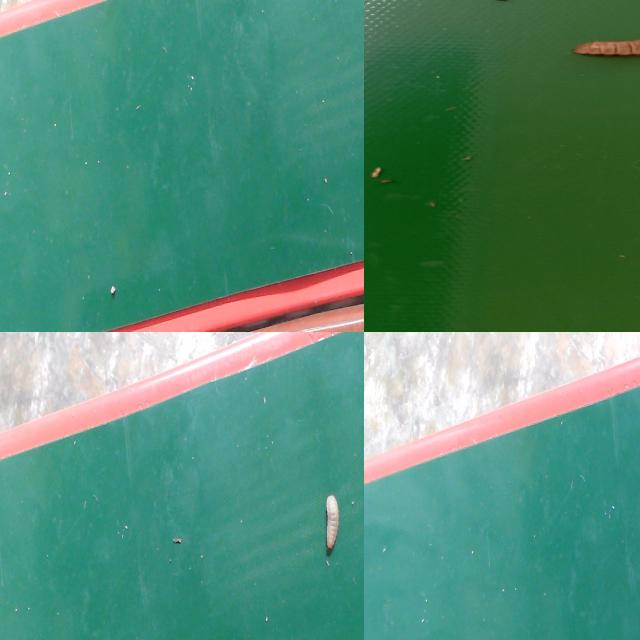Maggot: (575, 40, 640, 60), (324, 496, 343, 557)
